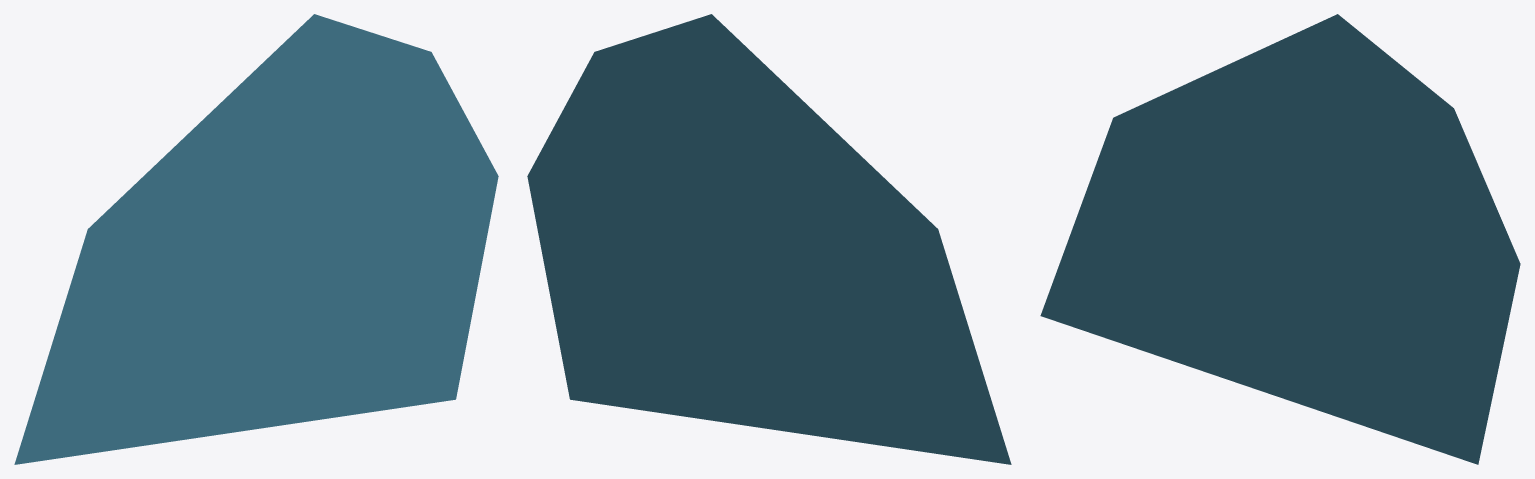
Rendered from NexusA_Cloth_13.fbx.
3 views of the same model, side by side, from view 1: azimuth 30°, elevation 25°; view 2: azimuth 150°, elevation 25°; view 3: azimuth 330°, elevation 25° (orthographic).
Visible parts, largest first — view 1: pasted__polySurface58; view 2: pasted__polySurface58; view 3: pasted__polySurface58.
Part boxes in pixels (x1,y1,x2,y2): pasted__polySurface58: [14, 14, 498, 464]; pasted__polySurface58: [527, 14, 1011, 464]; pasted__polySurface58: [1040, 14, 1520, 464].
Bounding box in the file's own units: 51.32 × 42.56 × 0.
